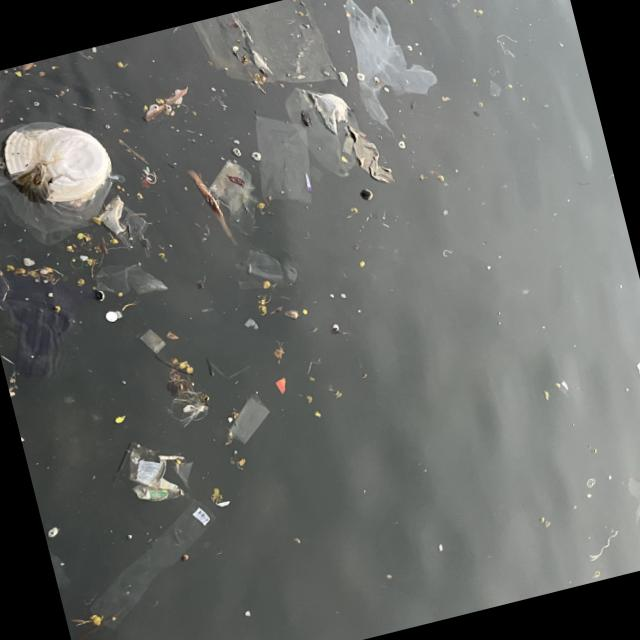foam: (1, 111, 117, 213)
plastic bag: (348, 1, 435, 125), (289, 92, 363, 181)
